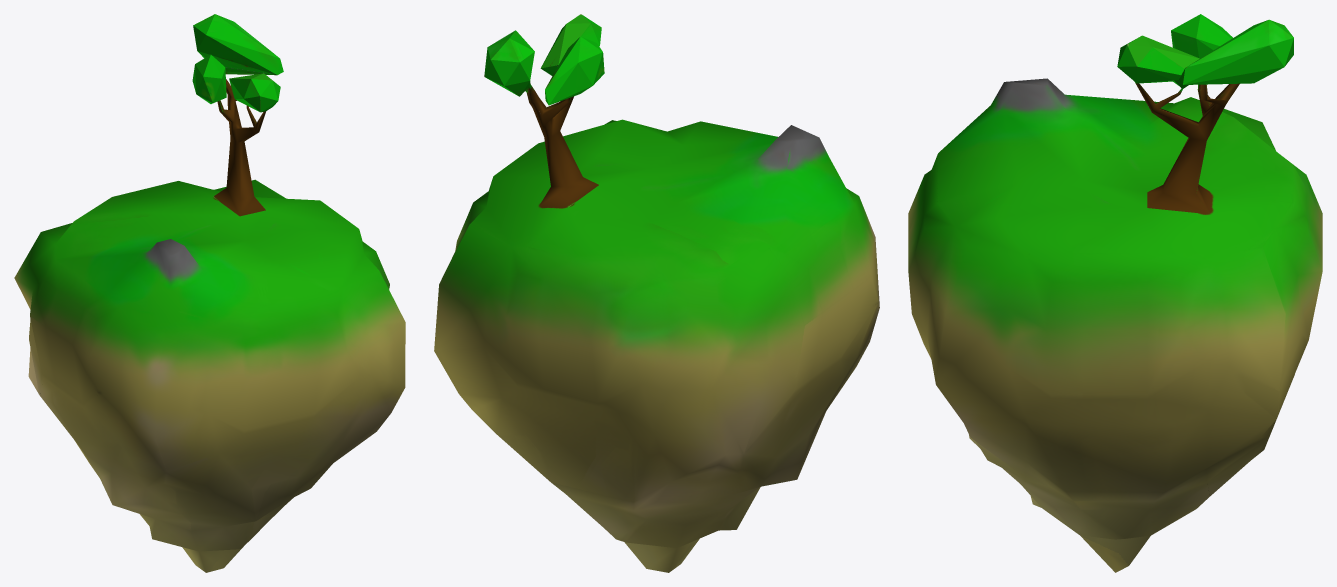
The model's file is island.dae.
3 renders of one model, left to right at view 1: azimuth 30°, elevation 25°; view 2: azimuth 150°, elevation 25°; view 3: azimuth 270°, elevation 25°, orthographic. The views are drawn at different scales.
Visible parts, largest first — view 1: Island; view 2: Island; view 3: Island.
Boxes of the visible parts, box(x1,y1,x2,y2) form: Island: box(14, 14, 405, 572); Island: box(434, 14, 879, 572); Island: box(908, 14, 1322, 572).
Bounding box in the file's own units: 3.42 × 3.42 × 5.34.
1 material, 1 textured.
